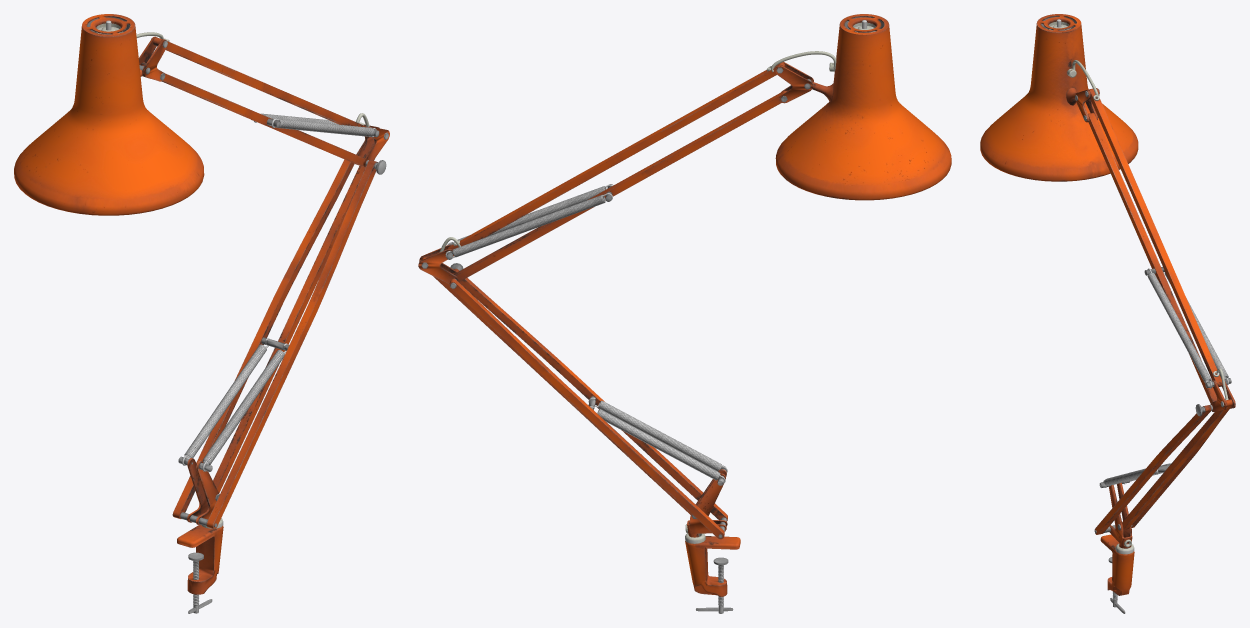
Rendered from desk_lamp_arm_01.glb.
3 views of the same model, side by side, from view 1: azimuth 30°, elevation 25°; view 2: azimuth 150°, elevation 25°; view 3: azimuth 270°, elevation 25° (orthographic). The views are drawn at different scales.
Visible parts, largest first — view 1: geo_lamp-head, geo_arm_1_c, geo_arm_1_b, geo_arm_1_a, geo_arm_2_a, geo_arm_2_b, geo_base_pivot, geo_lamp-base-pivot, geo_lower-spring_b, geo_lower-spring_a, geo_top-spring_b, geo_top-pivot (+1 smaller); view 2: geo_lamp-head, geo_arm_1_b, geo_arm_2_a, geo_arm_2_b, geo_arm_1_c, geo_base_pivot, geo_top-spring_a, geo_lower-spring_b, geo_lower-spring_a, geo_lamp-base-pivot, geo_middle-pivot, geo_top-pivot (+2 smaller); view 3: geo_lamp-head, geo_arm_2_a, geo_arm_2_b, geo_arm_1_c, geo_arm_1_a, geo_base_pivot, geo_top-spring_b, geo_lamp-base-pivot, geo_middle-pivot, geo_arm_1_b, geo_top-pivot, geo_top-spring_a.
Boxes of the visible parts, box(x1,y1,x2,y2) form: geo_lamp-head: box(14, 14, 204, 215); geo_arm_1_c: box(206, 160, 377, 529); geo_arm_1_b: box(172, 159, 354, 518); geo_arm_1_a: box(213, 138, 374, 492); geo_arm_2_a: box(153, 37, 367, 127); geo_arm_2_b: box(162, 73, 364, 166); geo_base_pivot: box(177, 518, 223, 594); geo_lamp-base-pivot: box(178, 456, 219, 527); geo_lower-spring_b: box(202, 350, 284, 464); geo_lower-spring_a: box(184, 344, 266, 458); geo_top-spring_b: box(276, 119, 374, 136); geo_top-pivot: box(138, 36, 167, 81); geo_lamp-head: box(775, 14, 951, 200); geo_arm_1_b: box(449, 279, 724, 539); geo_arm_2_a: box(447, 62, 785, 249); geo_arm_2_b: box(454, 91, 786, 281); geo_arm_1_c: box(454, 268, 727, 521); geo_base_pivot: box(685, 533, 740, 596); geo_top-spring_a: box(452, 195, 605, 257); geo_lower-spring_b: box(598, 400, 722, 471); geo_lower-spring_a: box(597, 409, 720, 480); geo_lamp-base-pivot: box(685, 465, 727, 537); geo_middle-pivot: box(418, 242, 463, 288); geo_top-pivot: box(775, 62, 813, 103); geo_lamp-head: box(980, 14, 1138, 181); geo_arm_2_a: box(1088, 88, 1222, 386); geo_arm_2_b: box(1088, 113, 1217, 403); geo_arm_1_c: box(1094, 405, 1211, 534); geo_arm_1_a: box(1122, 399, 1232, 529); geo_base_pivot: box(1100, 534, 1134, 595); geo_top-spring_b: box(1147, 273, 1211, 383); geo_lamp-base-pivot: box(1094, 481, 1132, 548); geo_middle-pivot: box(1195, 378, 1235, 416); geo_arm_1_b: box(1132, 409, 1229, 527); geo_top-pivot: box(1074, 88, 1099, 122); geo_top-spring_a: box(1164, 272, 1228, 378).
Bounding box in the file's own units: 0.5814 × 0.7748 × 0.334.
Materials: 2 (2 with a texture image).
